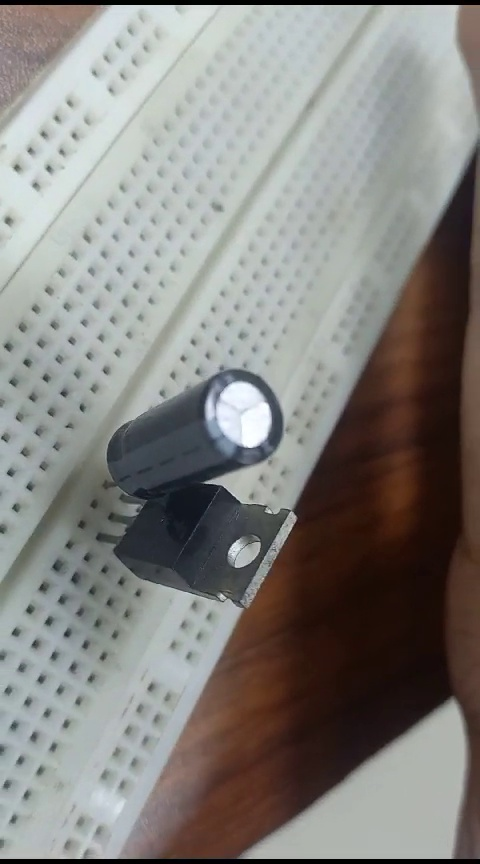capacitor: (87, 361, 284, 497)
voltage regulator: (111, 480, 306, 613)
